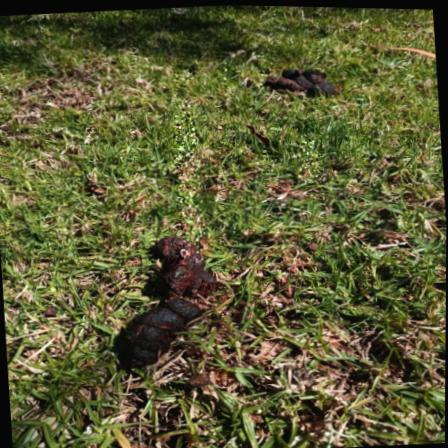dog-poop: (107, 226, 231, 369), (264, 49, 336, 104)
